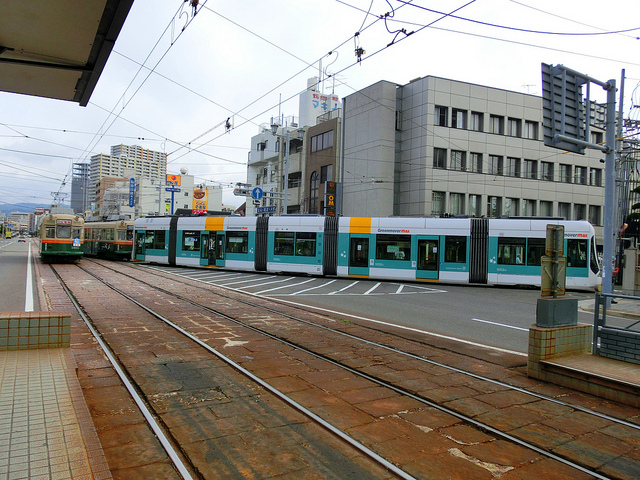Train: (139, 216, 544, 290)
